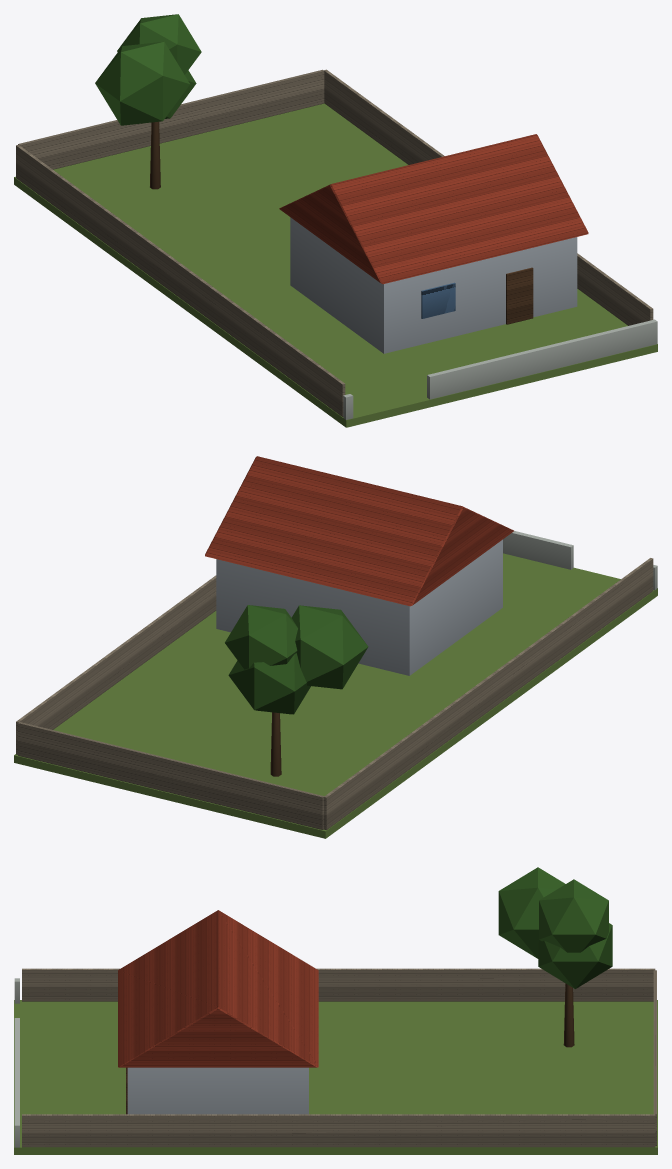
File: casa_1.glb
3 views of the same model, one above another, from view 1: azimuth 30°, elevation 25°; view 2: azimuth 150°, elevation 25°; view 3: azimuth 270°, elevation 25° (orthographic). The views are drawn at different scales.
Visible parts, largest first — view 1: casa_1_liso, casa_1; view 2: casa_1_liso, casa_1; view 3: casa_1_liso, casa_1.
Boxes of the visible parts, x1,y1,x2,y2 form: casa_1_liso: (14, 14, 657, 427); casa_1: (16, 69, 653, 416); casa_1_liso: (14, 531, 657, 838); casa_1: (16, 456, 653, 829); casa_1_liso: (14, 867, 657, 1154); casa_1: (22, 910, 656, 1147).
Bounding box in the file's own units: 13 × 6.88 × 24.
3 materials, 2 textured.
